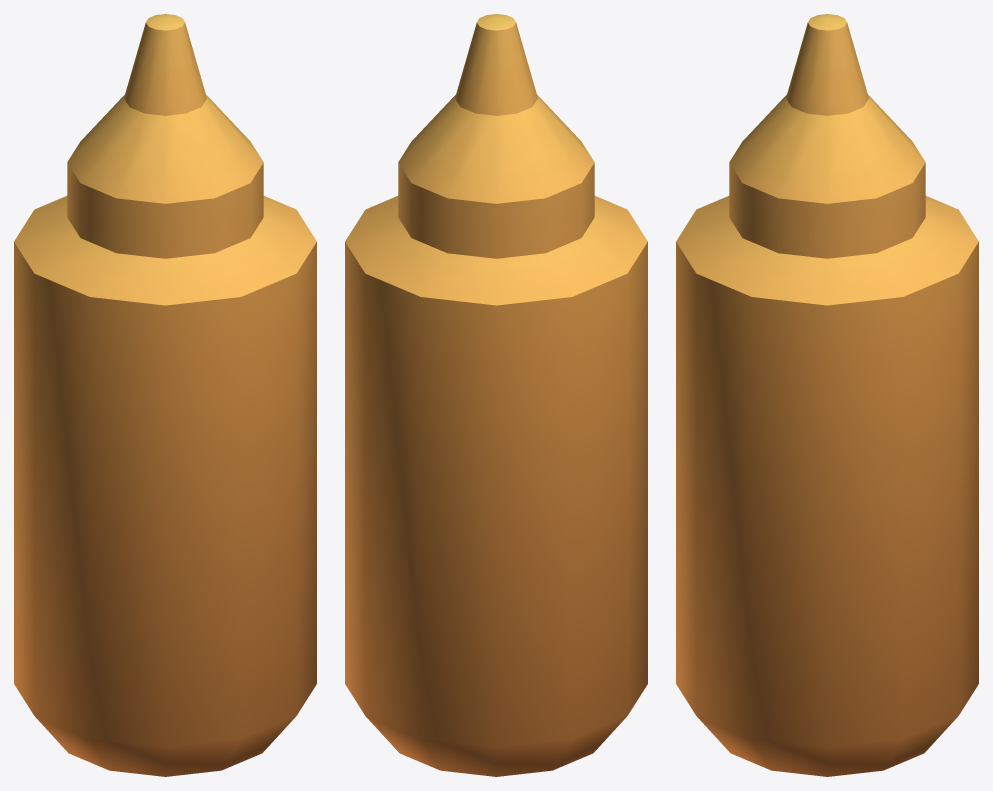
Rendered from senapsflaska.glb.
3 views of the same model, side by side, from view 1: azimuth 30°, elevation 25°; view 2: azimuth 150°, elevation 25°; view 3: azimuth 270°, elevation 25° (orthographic).
Parts seen in each view (by area): view 1: mustard; view 2: mustard; view 3: mustard.
Part boxes in pixels (bbox=[...]): mustard: bbox=[14, 14, 316, 776]; mustard: bbox=[345, 14, 647, 776]; mustard: bbox=[676, 14, 978, 776].
Size of the model in its own units: 0.3 by 0.7785 by 0.3.
Materials: 1 (1 with a texture image).
